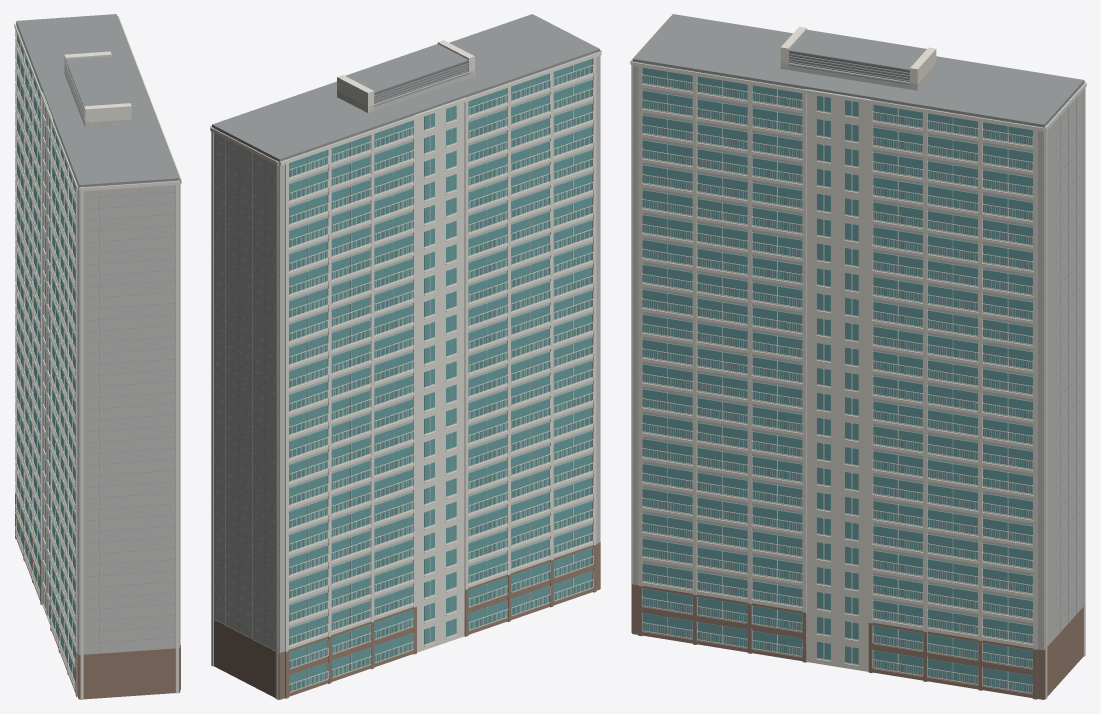
File: bespoke-jamsil-els-134.glb
3 views of the same model, side by side, from view 1: azimuth 30°, elevation 25°; view 2: azimuth 150°, elevation 25°; view 3: azimuth 270°, elevation 25° (orthographic). The views are drawn at different scales.
Visible parts, largest first — view 1: Els134_editable_Els134_light_grey_solid_wall, Els134_editable_Els134_modest_grey_flat_roof_caps, Els134_editable_Els134_turquoise_balcony_glazing, Els134_white_exact_chunk_0, Els134_white_exact_chunk_2, Els134_white_exact_chunk_1, Els134_editable_Els134_muted_ground_wall, Els134_white_exact_chunk_4, Els134_white_exact_chunk_3; view 2: Els134_editable_Els134_turquoise_balcony_glazing, Els134_editable_Els134_light_grey_solid_wall, Els134_white_exact_chunk_0, Els134_white_exact_chunk_1, Els134_editable_Els134_modest_grey_flat_roof_caps, Els134_white_exact_chunk_2, Els134_editable_Els134_muted_ground_wall, Els134_white_exact_chunk_4, Els134_editable_Els134_narrow_charcoal_service_strips; view 3: Els134_editable_Els134_turquoise_balcony_glazing, Els134_editable_Els134_light_grey_solid_wall, Els134_white_exact_chunk_2, Els134_white_exact_chunk_4, Els134_white_exact_chunk_3, Els134_editable_Els134_modest_grey_flat_roof_caps, Els134_editable_Els134_muted_ground_wall, Els134_white_exact_chunk_0, Els134_editable_Els134_narrow_charcoal_service_strips.
Part boxes in pixels (x1,y1,x2,y2): Els134_editable_Els134_light_grey_solid_wall: (16, 23, 179, 654); Els134_editable_Els134_modest_grey_flat_roof_caps: (16, 14, 179, 654); Els134_editable_Els134_turquoise_balcony_glazing: (17, 29, 77, 686); Els134_white_exact_chunk_0: (15, 22, 52, 624); Els134_white_exact_chunk_2: (14, 23, 179, 699); Els134_white_exact_chunk_1: (15, 25, 67, 668); Els134_editable_Els134_muted_ground_wall: (15, 493, 180, 699); Els134_white_exact_chunk_4: (64, 16, 181, 183); Els134_white_exact_chunk_3: (154, 110, 180, 646); Els134_editable_Els134_turquoise_balcony_glazing: (288, 59, 592, 691); Els134_editable_Els134_light_grey_solid_wall: (212, 51, 599, 652); Els134_white_exact_chunk_0: (210, 97, 465, 699); Els134_white_exact_chunk_1: (285, 88, 550, 668); Els134_editable_Els134_modest_grey_flat_roof_caps: (212, 14, 599, 650); Els134_white_exact_chunk_2: (280, 50, 601, 625); Els134_editable_Els134_muted_ground_wall: (214, 542, 600, 699); Els134_white_exact_chunk_4: (210, 40, 474, 127); Els134_editable_Els134_narrow_charcoal_service_strips: (374, 61, 467, 102); Els134_editable_Els134_turquoise_balcony_glazing: (642, 68, 1033, 692); Els134_editable_Els134_light_grey_solid_wall: (632, 61, 1083, 649); Els134_white_exact_chunk_2: (630, 16, 1085, 671); Els134_white_exact_chunk_4: (631, 26, 1043, 693); Els134_white_exact_chunk_3: (638, 62, 923, 675); Els134_editable_Els134_modest_grey_flat_roof_caps: (632, 14, 1084, 646); Els134_editable_Els134_muted_ground_wall: (632, 583, 1083, 699); Els134_white_exact_chunk_0: (1045, 82, 1086, 699); Els134_editable_Els134_narrow_charcoal_service_strips: (789, 51, 909, 80).
Bounding box in the file's own units: 25.45 × 62.75 × 43.52.
